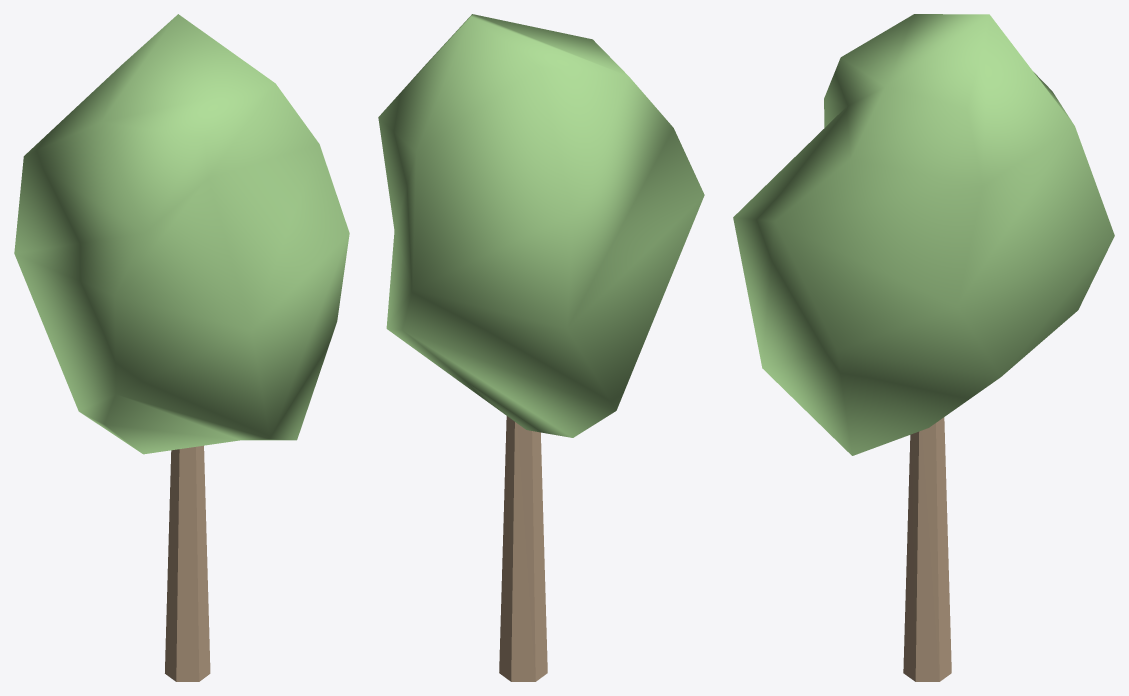
The model's file is Tree_03.glb.
3 views of the same model, side by side, from view 1: azimuth 30°, elevation 25°; view 2: azimuth 150°, elevation 25°; view 3: azimuth 270°, elevation 25° (orthographic). The views are drawn at different scales.
Parts seen in each view (by area): view 1: Tree03.001; view 2: Tree03.001; view 3: Tree03.001.
Part boxes in pixels (x1=…): Tree03.001: x1=14, y1=14, x2=349, y2=681; Tree03.001: x1=378, y1=14, x2=704, y2=681; Tree03.001: x1=733, y1=14, x2=1114, y2=681.
Size of the model in its own units: 5.36 by 14 by 7.24.
